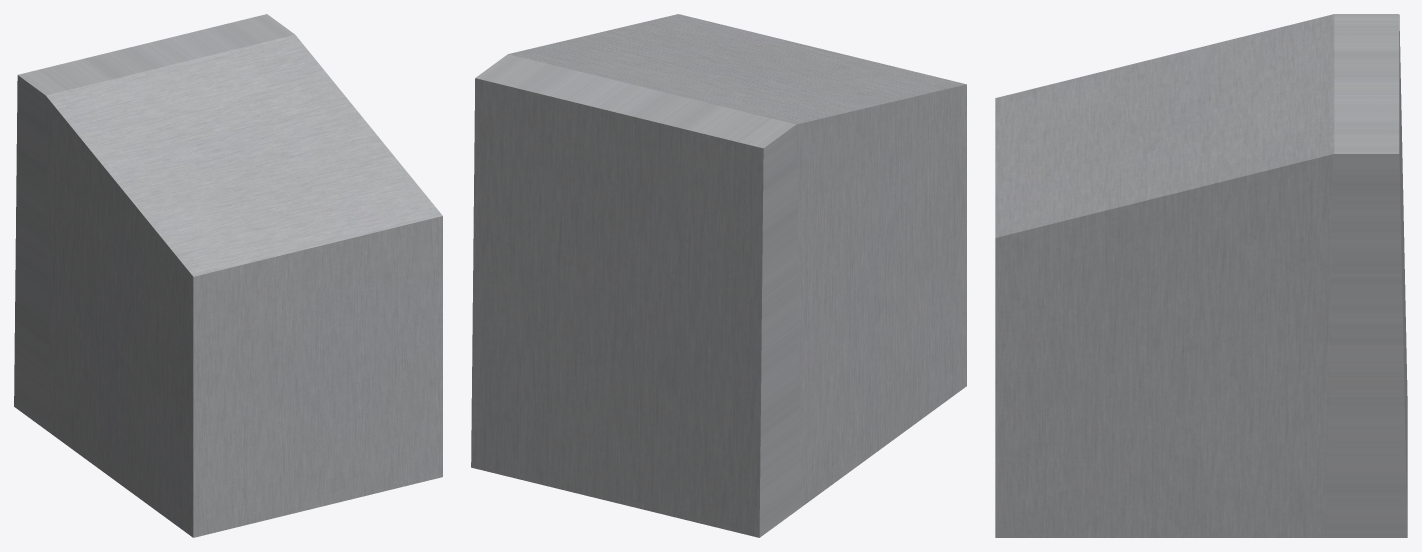
Rendered from simple6.glb.
3 views of the same model, side by side, from view 1: azimuth 30°, elevation 25°; view 2: azimuth 150°, elevation 25°; view 3: azimuth 270°, elevation 25° (orthographic). The views are drawn at different scales.
Parts seen in each view (by area): view 1: Cube; view 2: Cube; view 3: Cube.
Part boxes in pixels (x1,y1,x2,y2): Cube: [14, 14, 442, 537]; Cube: [471, 14, 966, 537]; Cube: [995, 14, 1407, 537].
Size of the model in its own units: 2 by 2.56 by 2.49.
Materials: 1 (1 with a texture image).
